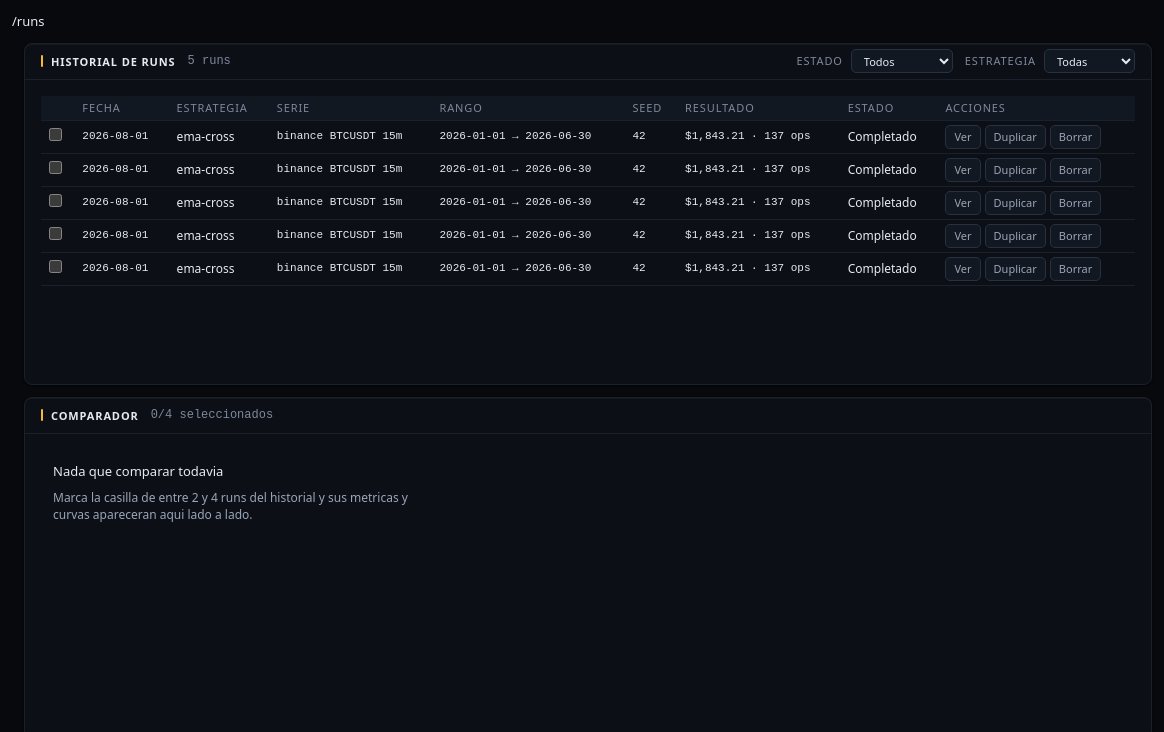
it: Runs › la seleccion para comparar se corta en 4
Step 1. Click the checkbox named "Comparar el run 11111111-2222-4333-8444-555555555555" → click(56, 135), box [49,128,62,141]
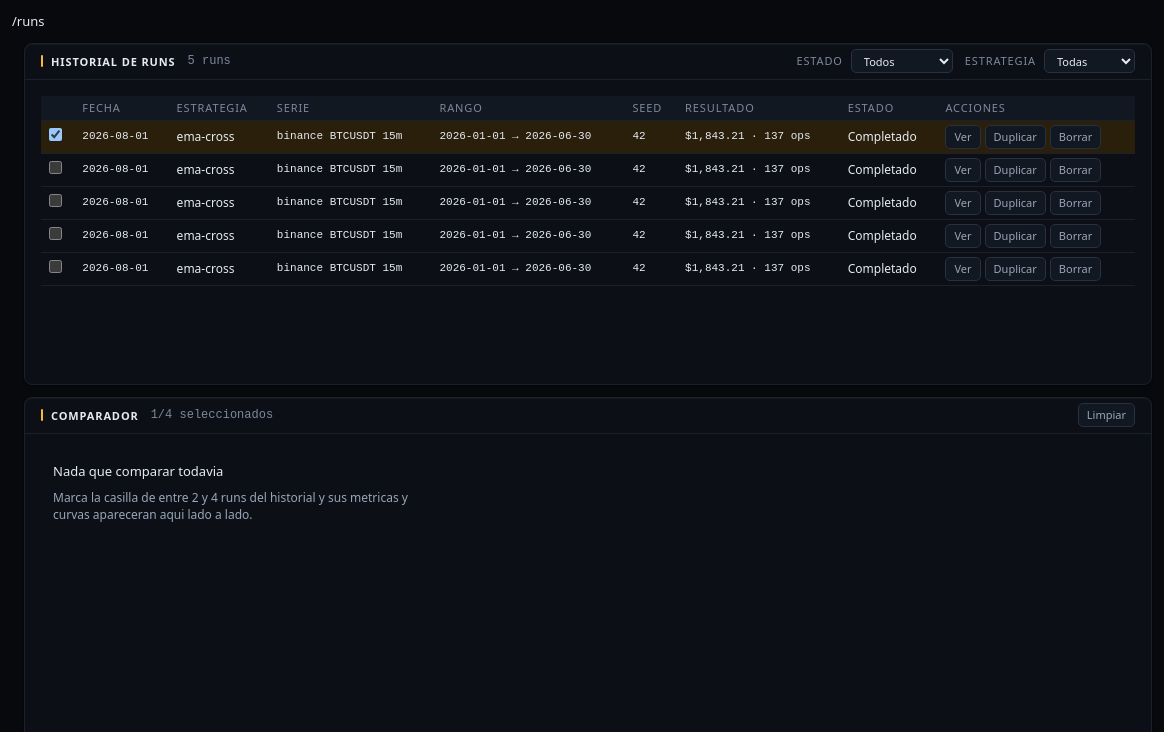
Step 2. Click the checkbox named "Comparar el run 99999999-8888-4777-8666-555555555555" → click(56, 168), box [49,161,62,174]
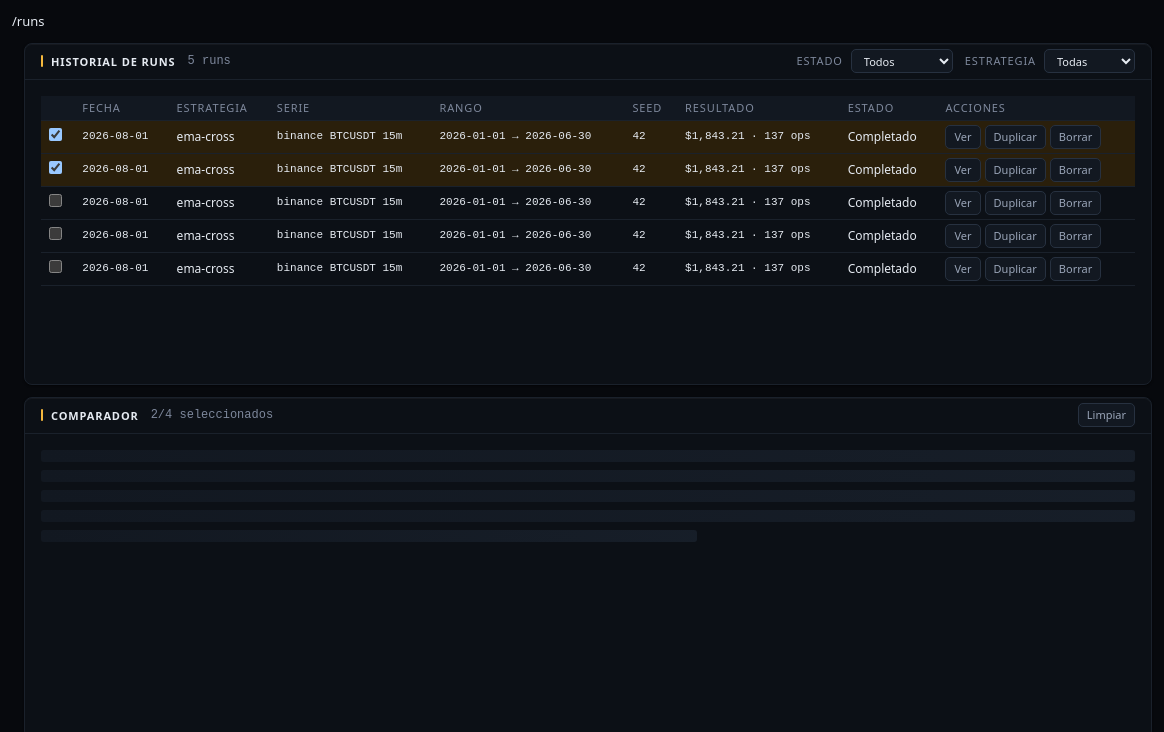
Step 3. Click the checkbox named "Comparar el run 33333333-4444-4555-8666-777777777777" → click(56, 201), box [49,194,62,207]
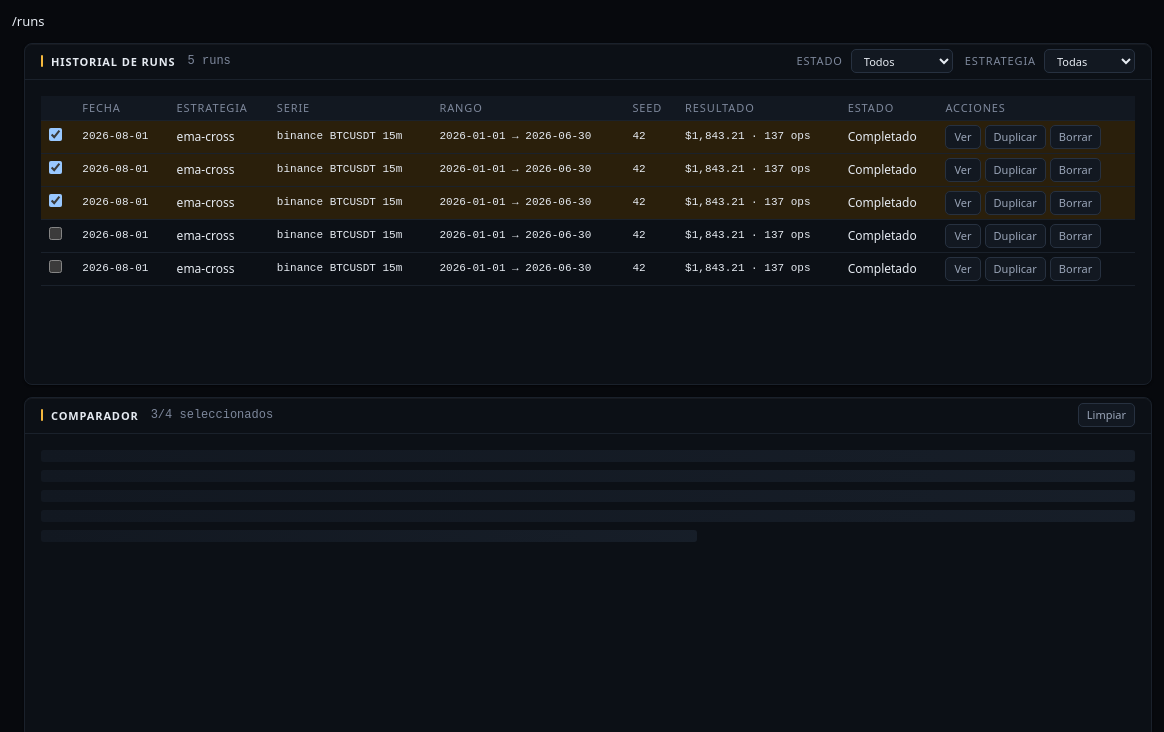
Step 4. Click the checkbox named "Comparar el run 44444444-5555-4666-8777-888888888888" → click(56, 234), box [49,227,62,240]
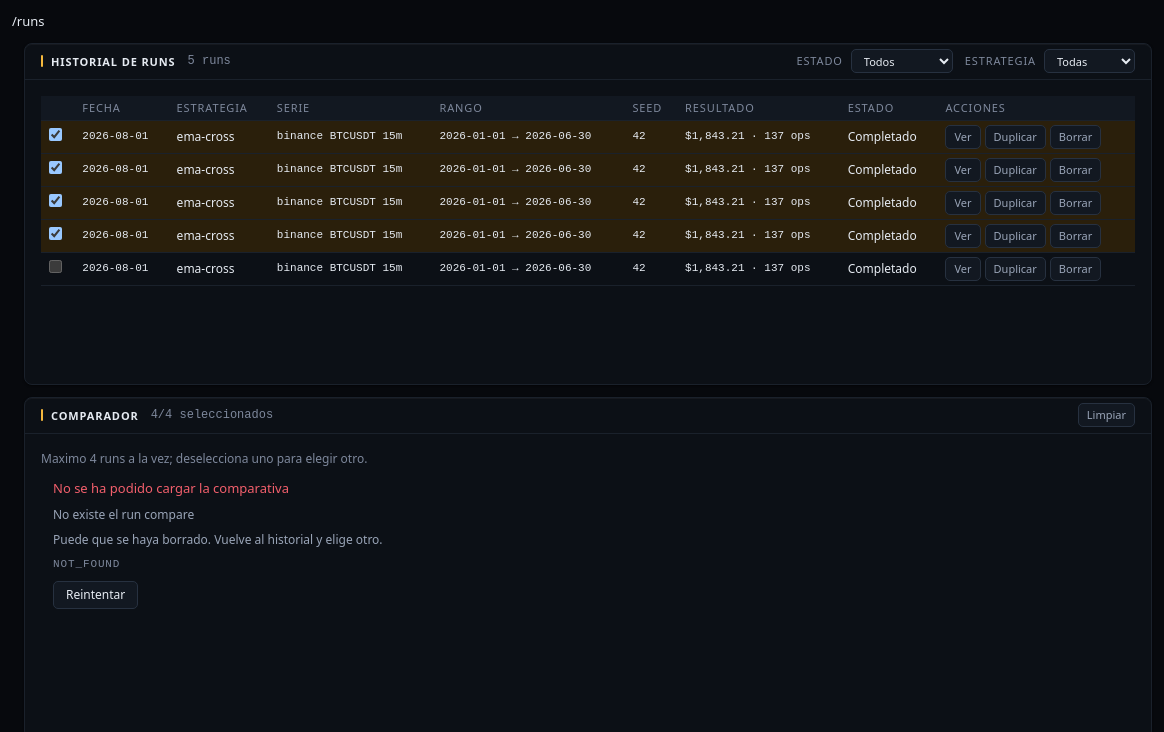
Check: the text "Maximo 4 runs a la vez; deselecciona uno para elegir otro." is shown, box [41,450,367,467]
